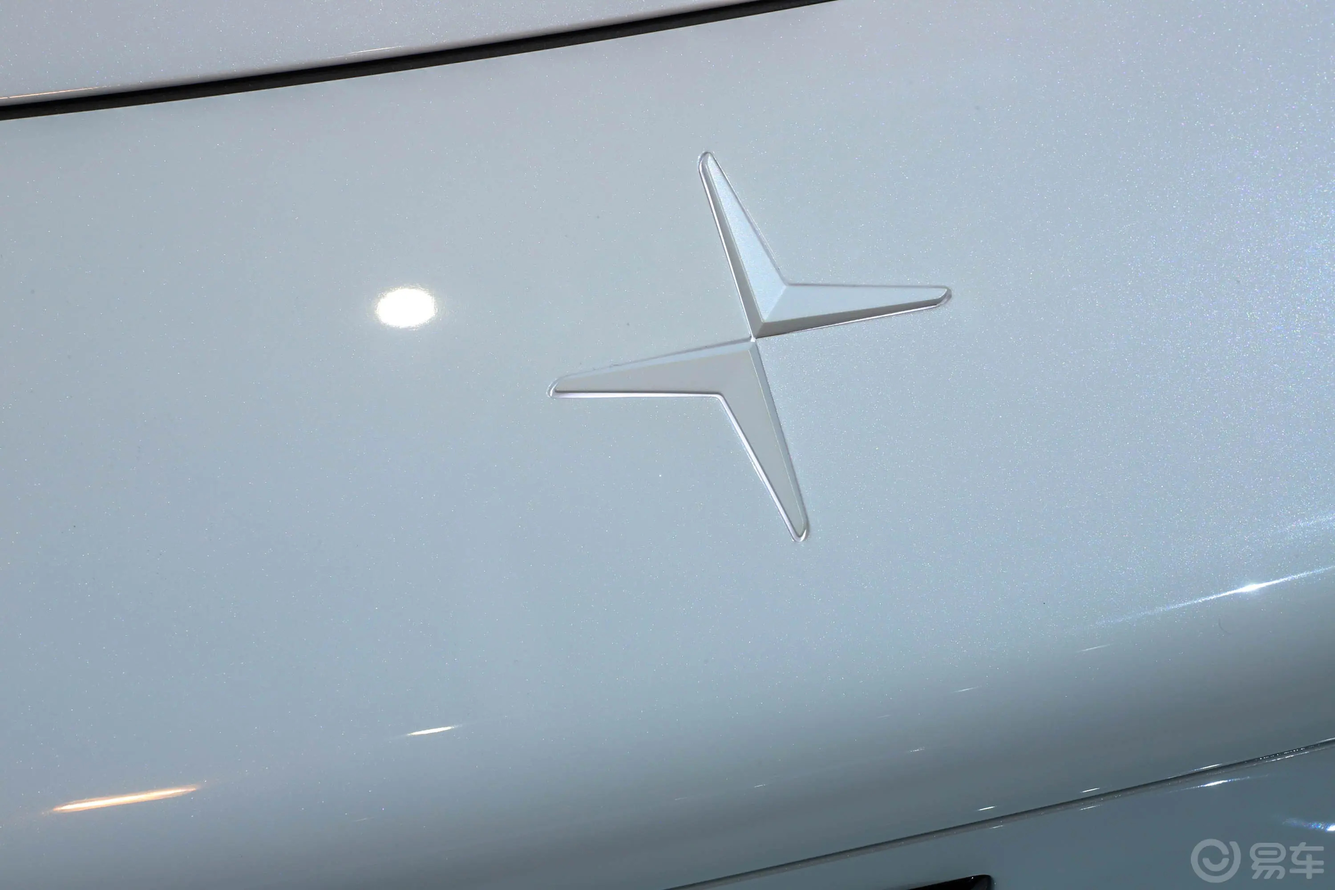Polestar: (550, 152, 951, 542)
